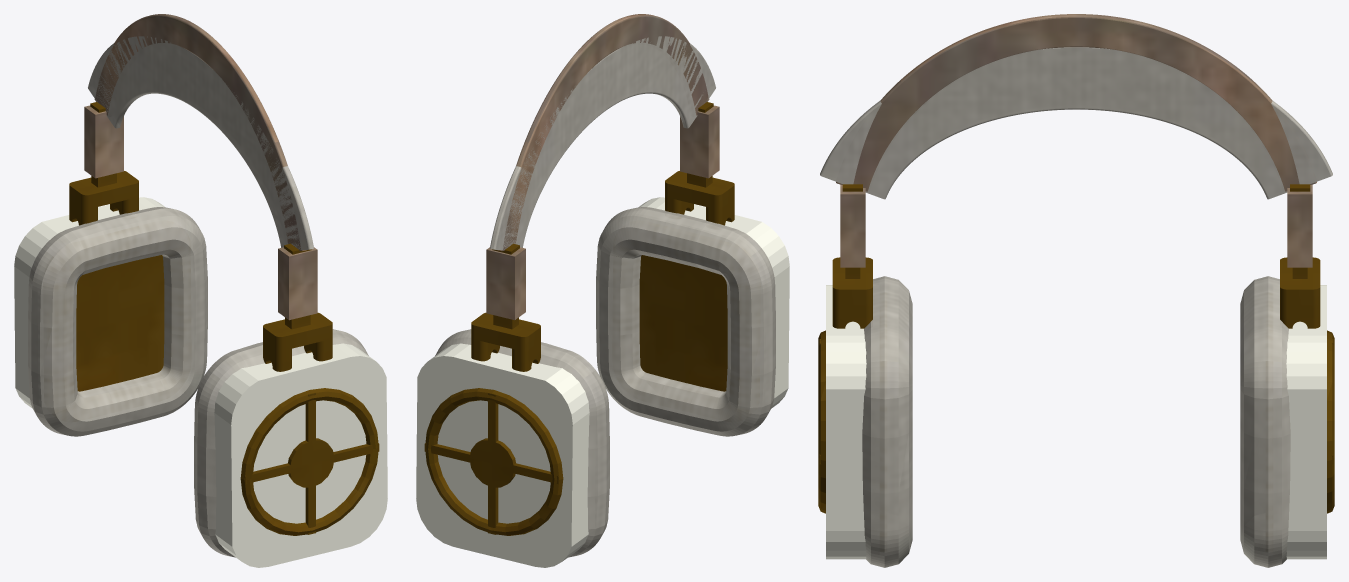
Rendered from Music_Headphone__0066.glb.
3 views of the same model, side by side, from view 1: azimuth 30°, elevation 25°; view 2: azimuth 150°, elevation 25°; view 3: azimuth 270°, elevation 25° (orthographic). The views are drawn at different scales.
Visible parts, largest first — view 1: left_cup::left_cup_pad, right_cup::right_cup_shell, suspension_strap::strap_body, left_cup::left_cup_cap, band::arch_frame, right_cup::right_cup_pad, right_cup::right_cup_grille_ring, left_cup::left_cup_shell, right_yoke::right_yoke_body, band::housing_r, left_yoke::left_yoke_body, band::housing_l (+4 smaller); view 2: right_cup::right_cup_pad, left_cup::left_cup_shell, suspension_strap::strap_body, right_cup::right_cup_cap, band::arch_frame, left_cup::left_cup_pad, left_cup::left_cup_grille_ring, right_cup::right_cup_shell, left_yoke::left_yoke_body, band::housing_l, right_yoke::right_yoke_body, band::housing_r (+4 smaller); view 3: suspension_strap::strap_body, band::arch_frame, left_cup::left_cup_pad, right_cup::right_cup_pad, left_cup::left_cup_shell, right_cup::right_cup_shell, left_yoke::left_yoke_body, right_yoke::right_yoke_body, band::housing_l, band::housing_r, left_cup::left_cup_grille_ring, right_cup::right_cup_grille_ring.
Part boxes in pixels (left/top/right/bottom): left_cup::left_cup_pad: left=28, top=207, right=207, bottom=436; right_cup::right_cup_shell: left=214, top=343, right=387, bottom=567; suspension_strap::strap_body: left=88, top=36, right=313, bottom=249; left_cup::left_cup_cap: left=76, top=255, right=164, bottom=391; band::arch_frame: left=94, top=14, right=306, bottom=250; right_cup::right_cup_pad: left=194, top=329, right=368, bottom=557; right_cup::right_cup_grille_ring: left=240, top=388, right=378, bottom=535; left_cup::left_cup_shell: left=14, top=197, right=165, bottom=408; right_yoke::right_yoke_body: left=263, top=312, right=332, bottom=371; band::housing_r: left=278, top=247, right=317, bottom=320; left_yoke::left_yoke_body: left=69, top=171, right=138, bottom=225; band::housing_l: left=84, top=105, right=123, bottom=178; right_cup::right_cup_pad: left=596, top=207, right=775, bottom=436; left_cup::left_cup_shell: left=416, top=343, right=589, bottom=567; suspension_strap::strap_body: left=490, top=36, right=715, bottom=249; right_cup::right_cup_cap: left=639, top=255, right=727, bottom=391; band::arch_frame: left=497, top=14, right=709, bottom=250; left_cup::left_cup_pad: left=435, top=329, right=609, bottom=557; left_cup::left_cup_grille_ring: left=425, top=388, right=563, bottom=535; right_cup::right_cup_shell: left=638, top=197, right=789, bottom=408; left_yoke::left_yoke_body: left=471, top=312, right=540, bottom=371; band::housing_l: left=486, top=247, right=525, bottom=320; right_yoke::right_yoke_body: left=665, top=171, right=734, bottom=225; band::housing_r: left=680, top=105, right=719, bottom=178; suspension_strap::strap_body: left=820, top=47, right=1332, bottom=199; band::arch_frame: left=836, top=14, right=1316, bottom=191; left_cup::left_cup_pad: left=1240, top=276, right=1290, bottom=567; right_cup::right_cup_pad: left=862, top=276, right=912, bottom=567; left_cup::left_cup_shell: left=1286, top=285, right=1326, bottom=559; right_cup::right_cup_shell: left=826, top=285, right=866, bottom=559; left_yoke::left_yoke_body: left=1280, top=257, right=1320, bottom=328; right_yoke::right_yoke_body: left=832, top=257, right=872, bottom=328; band::housing_l: left=1287, top=184, right=1312, bottom=267; band::housing_r: left=840, top=184, right=865, bottom=267; left_cup::left_cup_grille_ring: left=1327, top=330, right=1334, bottom=513; right_cup::right_cup_grille_ring: left=818, top=330, right=825, bottom=513.
Size of the model in its own units: 0.0913 by 0.2295 by 0.2038.
4 materials, 3 textured.
